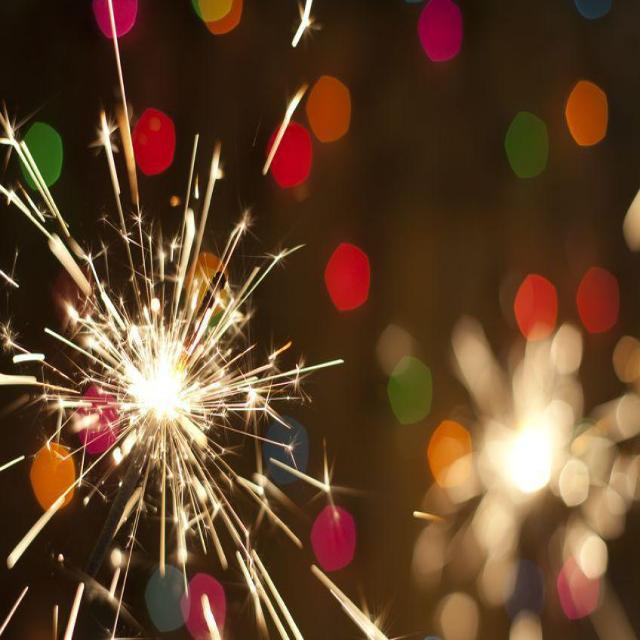other: (69, 268, 254, 487), (461, 355, 582, 525)
